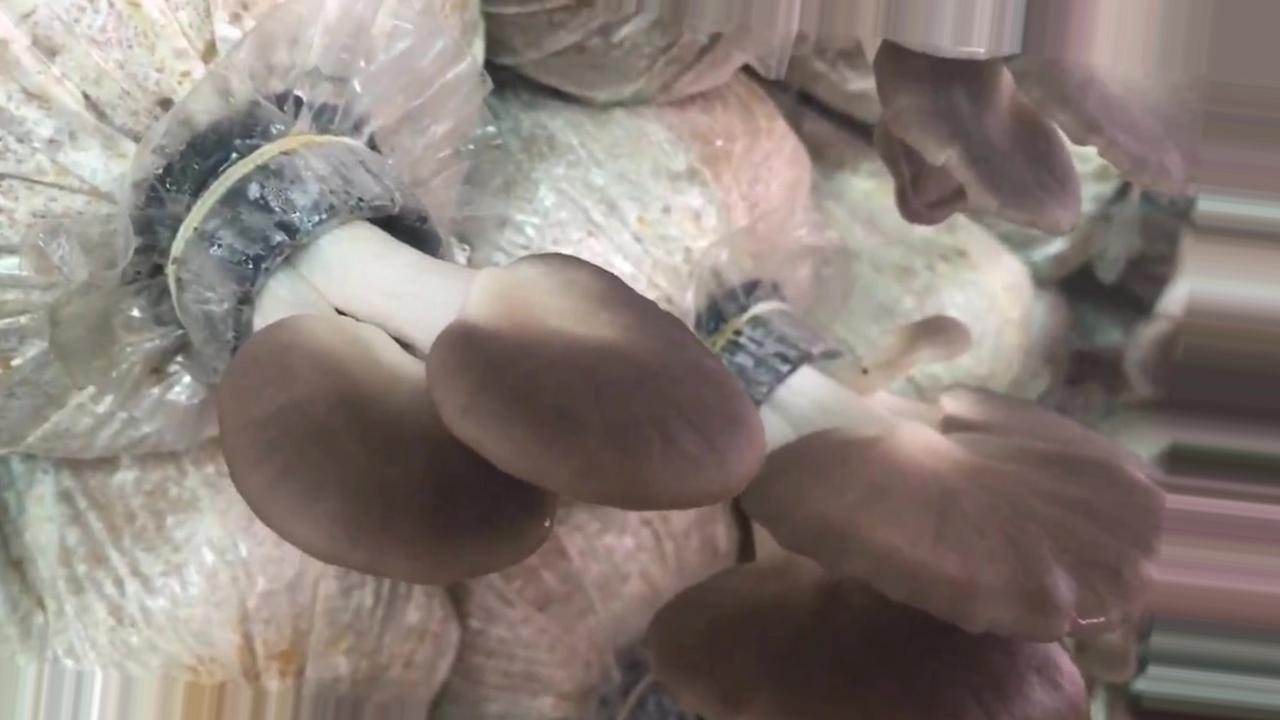nam: (167, 138, 766, 584), (648, 292, 1161, 714), (870, 6, 1280, 238)
